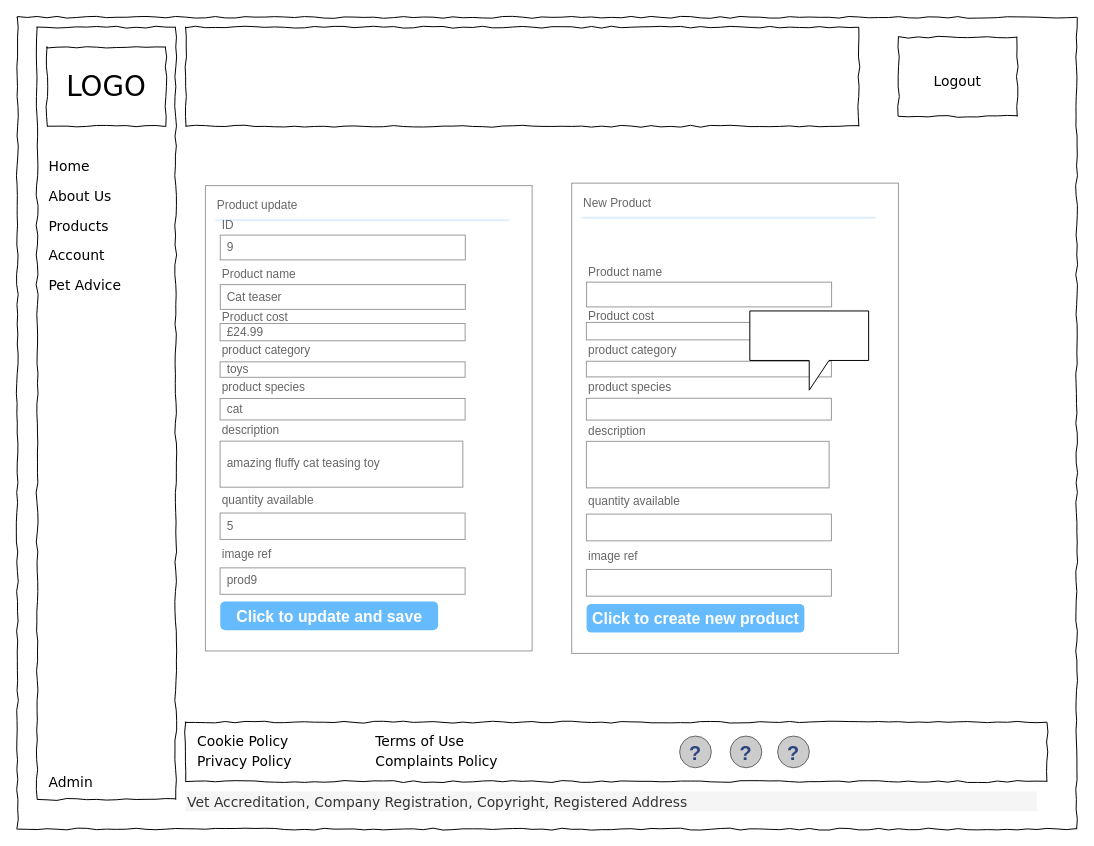
Image size: 1094x846. Some labels were removed from this diagram. The box of each missing label's shape, as (x1, y1, x2, y2) in pixels:
should be drop down choice for both species and category: (749, 310, 869, 390)
Vet Clinic Name: (185, 26, 859, 126)
